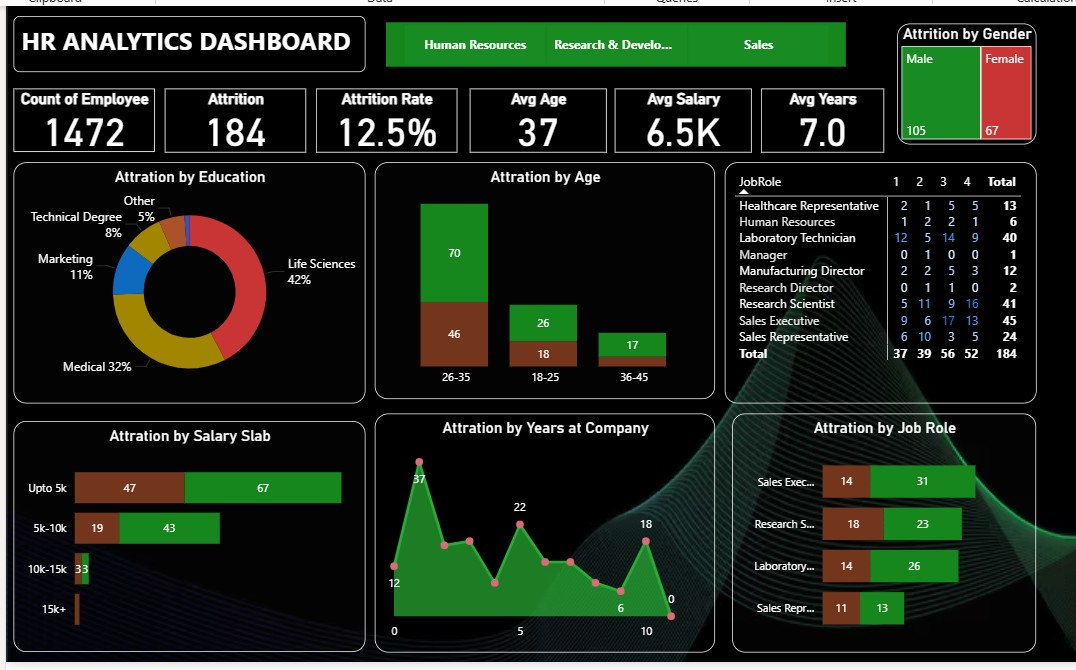

What the dashboard file says about the page in this screenshot:
{"tool":"powerbi","page":{"name":"HR Analytics Dashboard-Prokect_1","canvas":[1280,720],"ordinal":0},"visuals":[{"type":"card","title":"Count of Employee","fields":{"Values":["CountNonNull(HR_Analytic.EmpID)"]},"box":[8.2,90.6,155.1,70],"z":0},{"type":"card","title":"Avg Age","fields":{"Values":["Avg(HR_Analytic.Age)"]},"box":[508.8,90,150,70],"z":1000},{"type":"card","title":"Avg Salary","fields":{"Values":["Avg(HR_Analytic.MonthlyIncome)"]},"box":[668.8,90,150,70],"z":2000},{"type":"card","title":"Avg Years","fields":{"Values":["Avg(HR_Analytic.YearsAtCompany)"]},"box":[828.8,90,135,70],"z":3000},{"type":"donutChart","title":"Attration by Education","fields":{"Category":["HR_Analytic.EducationField"],"Y":["Sum(HR_Analytic.AttrationCount)"]},"box":[8.8,171.2,386.2,265],"z":4000},{"type":"columnChart","title":"Attration by Age","fields":{"Category":["HR_Analytic.AgeGroup"],"Y":["Sum(HR_Analytic.AttrationCount)"],"Series":["HR_Analytic.Gender"]},"box":[405,171.2,373.8,260],"z":5000},{"type":"pivotTable","fields":{"Rows":["HR_Analytic.JobRole"],"Columns":["HR_Analytic.JobSatisfaction"],"Values":["Sum(HR_Analytic.AttrationCount)"]},"box":[788.8,171.2,342.5,265],"z":6000},{"type":"barChart","title":"Attration by Salary Slab","fields":{"Category":["HR_Analytic.SalarySlab"],"Y":["Sum(HR_Analytic.AttrationCount)"],"Series":["HR_Analytic.Gender"]},"box":[8.8,456.2,386.2,253.8],"z":7000},{"type":"barChart","title":"Attration by Job Role","fields":{"Category":["HR_Analytic.JobRole"],"Y":["Sum(HR_Analytic.AttrationCount)"],"Series":["HR_Analytic.Gender"]},"box":[797.5,447.5,333.8,262.5],"z":8000},{"type":"areaChart","title":"Attration by Years at Company","fields":{"Category":["HR_Analytic.YearsAtCompany"],"Y":["Sum(HR_Analytic.AttrationCount)"]},"box":[405,447.5,373.8,262.5],"z":9000},{"type":"treemap","title":"Attrition by Gender","fields":{"Group":["HR_Analytic.Gender"],"Values":["Sum(HR_Analytic.AttrationCount)"]},"box":[978.8,18.8,152.5,132.5],"z":10000},{"type":"slicer","fields":{"Values":["HR_Analytic.Department"]},"box":[417.5,17.5,505,48.8],"z":11000},{"type":"textbox","box":[8.8,11.2,386.2,61.2],"z":12000},{"type":"card","title":"Attrition","fields":{"Values":["Sum(HR_Analytic.AttrationCount)"]},"box":[173.8,90,155,70],"z":13000},{"type":"card","title":"Attrition Rate","fields":{"Values":["HR_Analytic.AttritionRate"]},"box":[340,90,155,70],"z":14000}]}

Visuals, with their boxes on the page's 1280x720 design canvas (x1, y1, x2, y2). These are canvas units, not pixel positions in the 1076x670 screenshot, which may show the page scaled, cropped or inside an application window:
"Count of Employee" card: detection(8, 91, 163, 161)
"Avg Age" card: detection(509, 90, 659, 160)
"Avg Salary" card: detection(669, 90, 819, 160)
"Avg Years" card: detection(829, 90, 964, 160)
"Attration by Education" donutChart: detection(9, 171, 395, 436)
"Attration by Age" columnChart: detection(405, 171, 779, 431)
pivotTable - HR_Analytic.JobRole x HR_Analytic.JobSatisfaction: detection(789, 171, 1131, 436)
"Attration by Salary Slab" barChart: detection(9, 456, 395, 710)
"Attration by Job Role" barChart: detection(798, 448, 1131, 710)
"Attration by Years at Company" areaChart: detection(405, 448, 779, 710)
"Attrition by Gender" treemap: detection(979, 19, 1131, 151)
slicer - HR_Analytic.Department: detection(418, 18, 922, 66)
textbox: detection(9, 11, 395, 72)
"Attrition" card: detection(174, 90, 329, 160)
"Attrition Rate" card: detection(340, 90, 495, 160)
